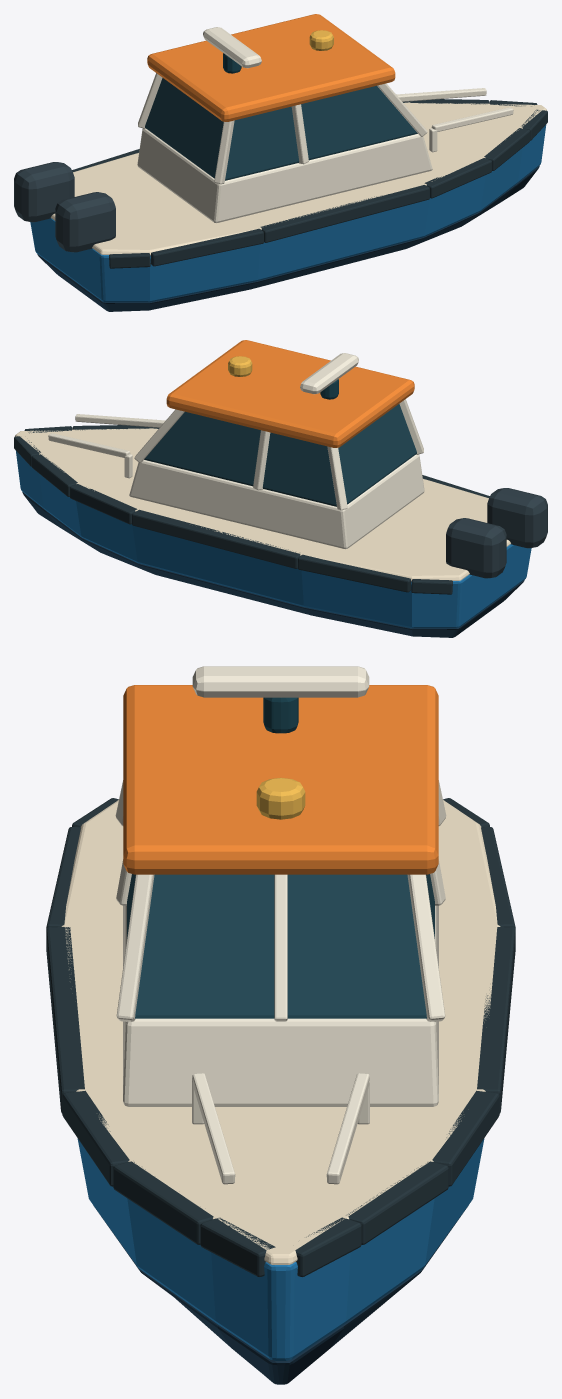
File: pilot-boat.glb
The picture shows the model from 3 angles, top to bottom: view 1: azimuth 30°, elevation 25°; view 2: azimuth 150°, elevation 25°; view 3: azimuth 270°, elevation 25°; orthographic projection. The views are drawn at different scales.
Parts seen in each view (by area): view 1: pilot-boat; view 2: pilot-boat; view 3: pilot-boat.
Part boxes in pixels (x1,y1,x2,y2): pilot-boat: (14, 14, 547, 311); pilot-boat: (14, 340, 547, 637); pilot-boat: (46, 666, 515, 1384).
Size of the model in its own units: 3.12 by 1.27 by 1.25.
